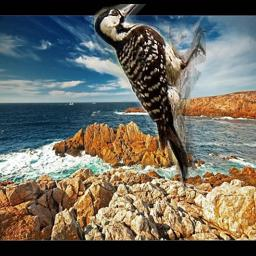Woodpecker: (94, 4, 206, 192)
